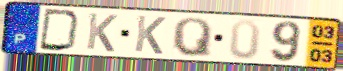0: (227, 18, 263, 61)
9: (268, 20, 306, 64)
D: (37, 7, 83, 53)
K: (84, 12, 120, 54), (133, 14, 168, 56)
Q: (171, 16, 214, 59)
